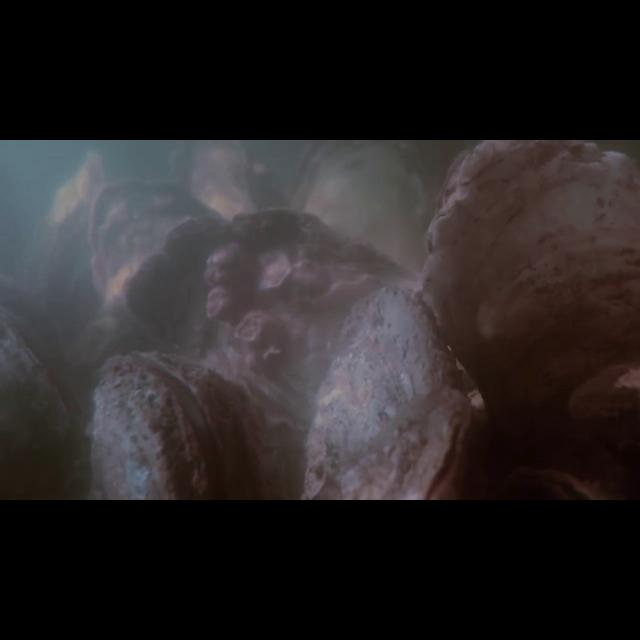Oyster-Closed: (124, 205, 425, 434), (414, 143, 638, 429), (302, 282, 477, 495), (85, 175, 225, 311), (288, 146, 427, 269), (2, 304, 86, 486), (179, 143, 270, 213), (510, 465, 607, 497)
Oyster-Open: (87, 348, 276, 500)
